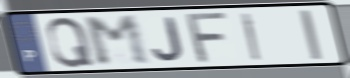F: (185, 10, 231, 65)
I: (297, 8, 325, 62), (239, 11, 263, 62)
J: (151, 16, 186, 63)
M: (80, 13, 154, 69)
Q: (45, 15, 96, 69)
